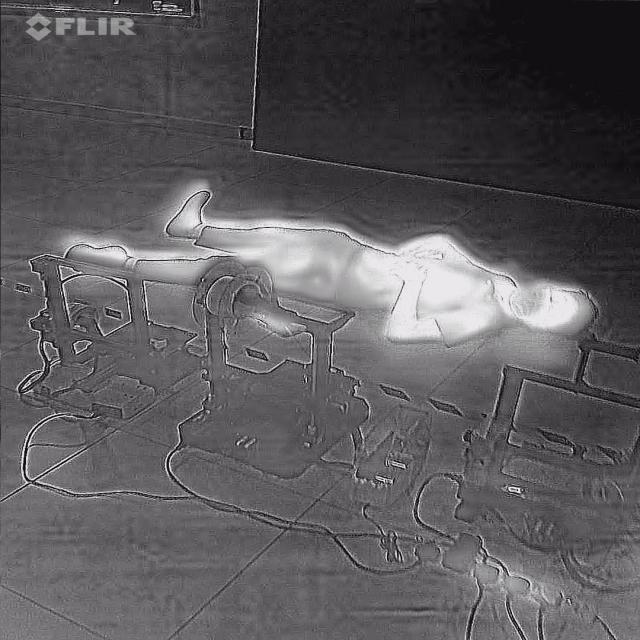Victim: (48, 181, 608, 345)
